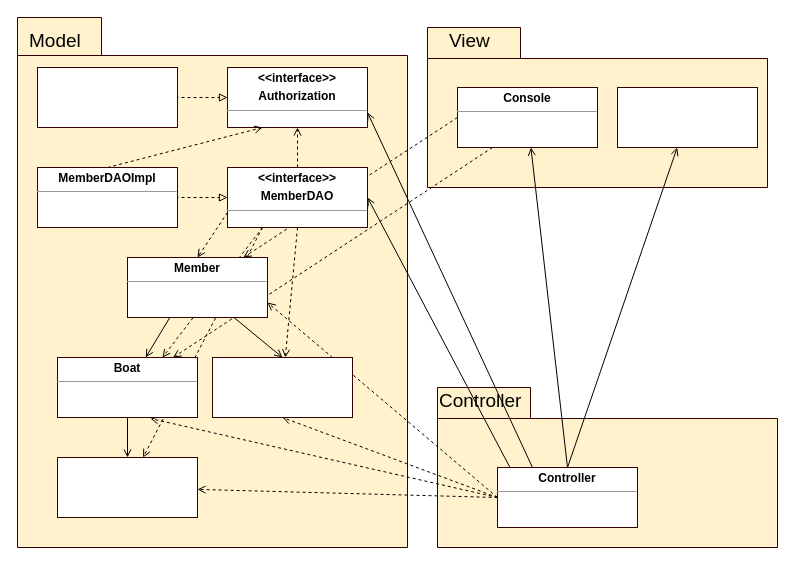
Some shapes in this 795 by 565 pixel diagram are drawn without their labels. Here are the shapes that lost their labels. From the top down, the centre of each, then its label:
At point (107, 97): "AuthorizationImpl".
At point (687, 117): "<<enumeration>> Event".
At point (282, 387): "PersonalNumber".
At point (127, 487): "<<enumeration>> BoatType".
